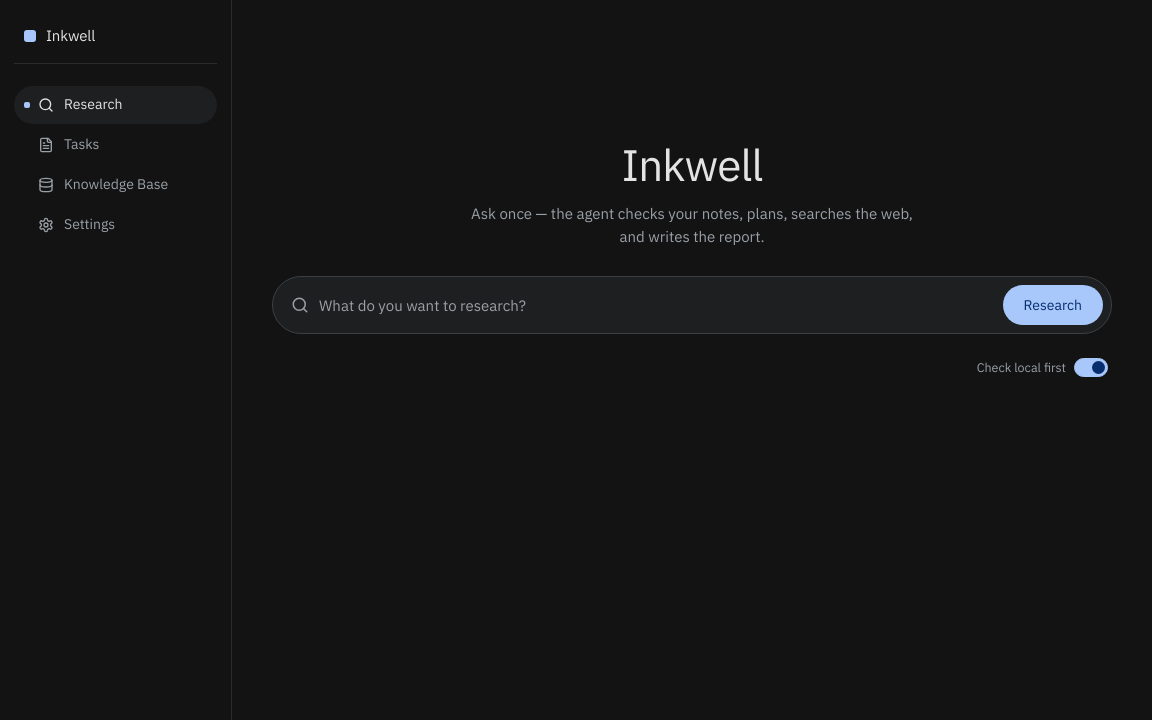
Test: App › deletes a finished task from task history and clears selected details
Expected: the heading "Inkwell" is shown, [622,136,763,193]
Click the link "Tasks" at (69, 144), box [38,135,99,153]
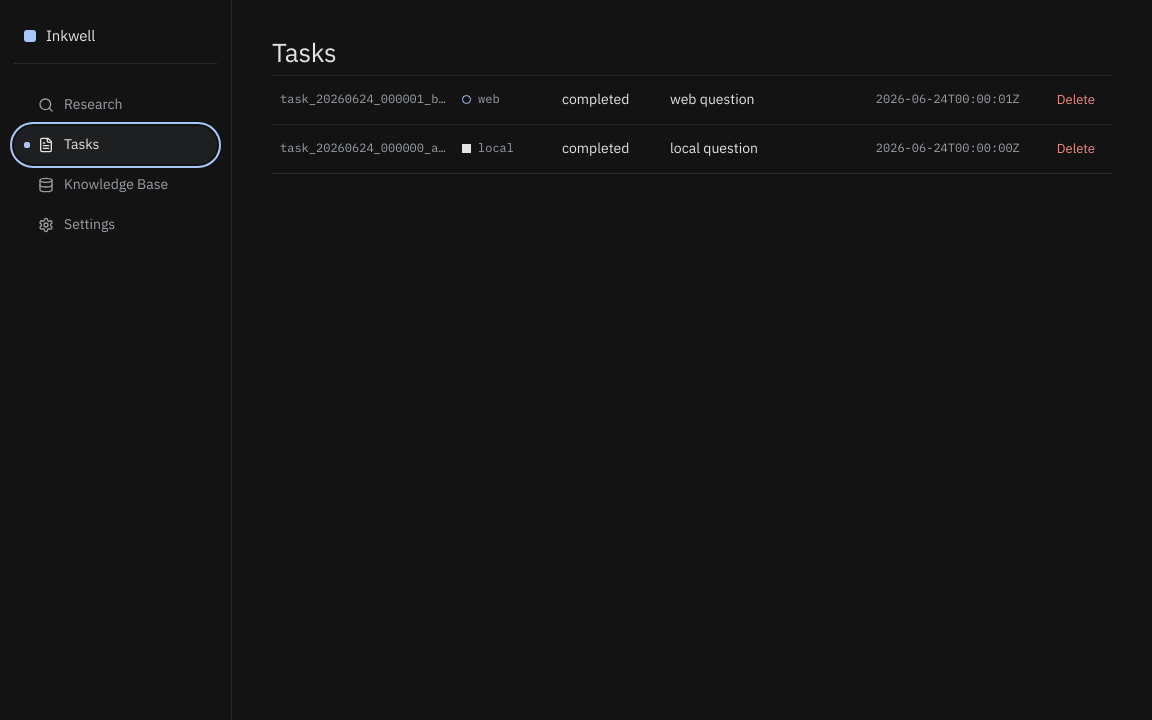
Click the text "web question" at (712, 99), box [670,90,754,108]
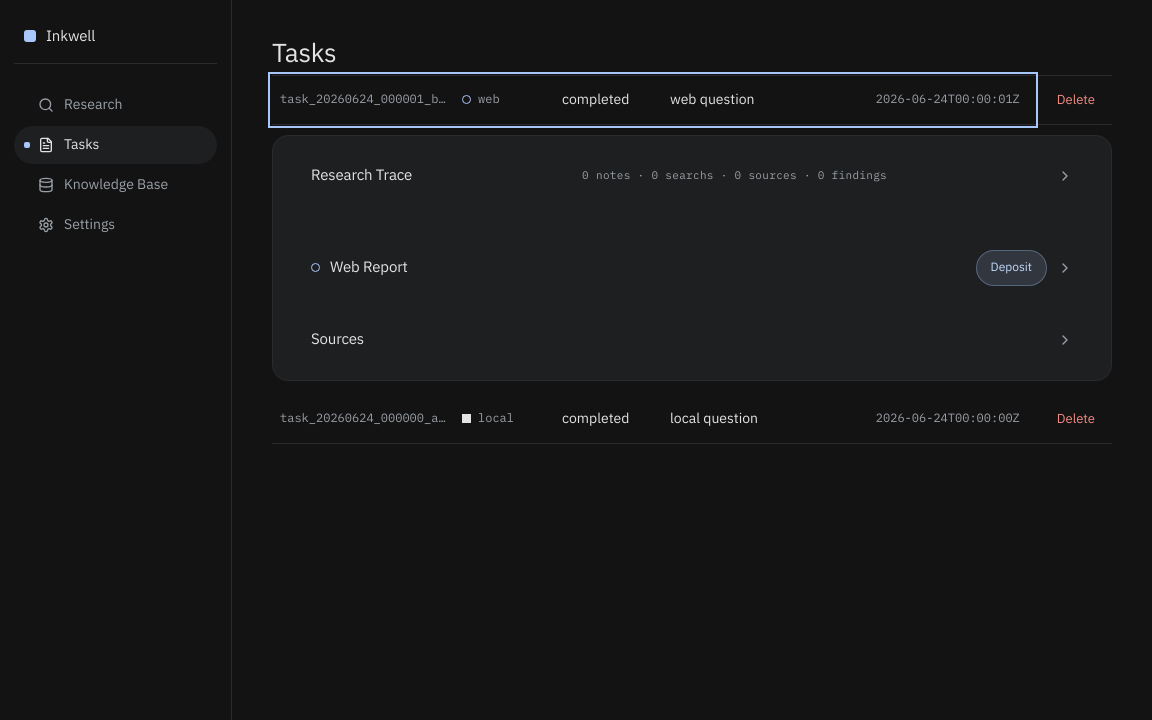
Expected: the heading "Web Report" is shown, [311,258,408,277]
Click the button with aria-label "Delete task web question" at (1076, 100), box [1044,84,1108,116]
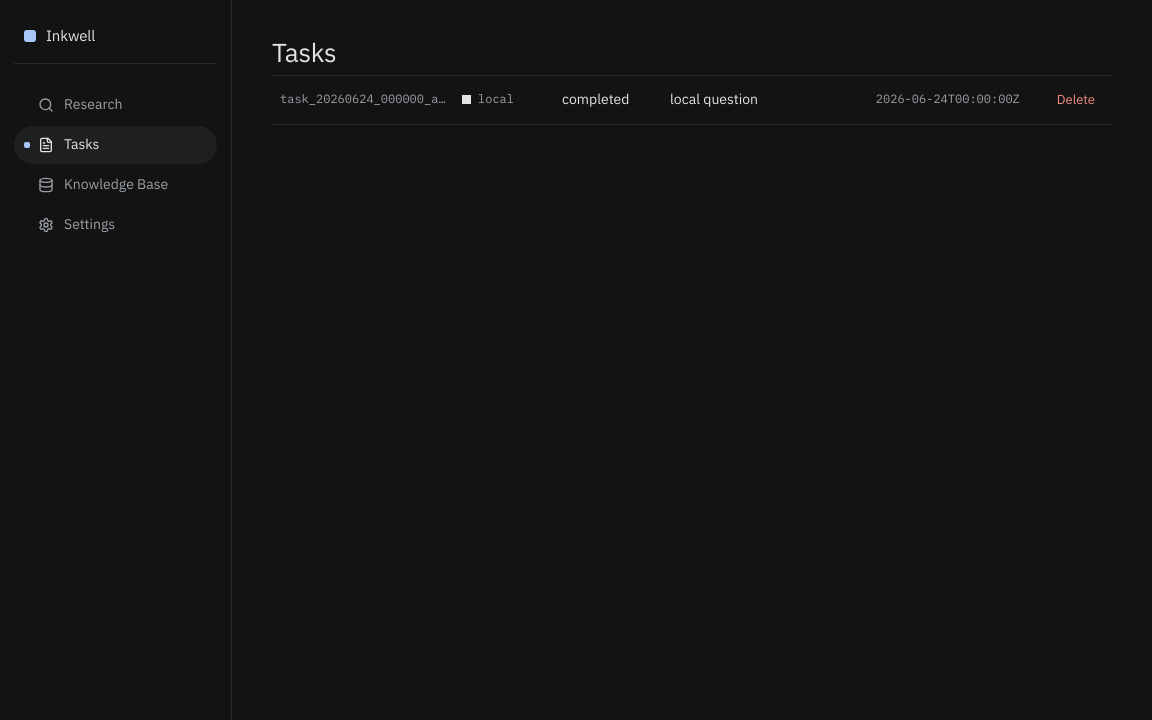
Expected: the text "local question" is shown, [670,90,758,108]
Expected: the button "web question" is gone
Expected: the button "Web Report" is gone
